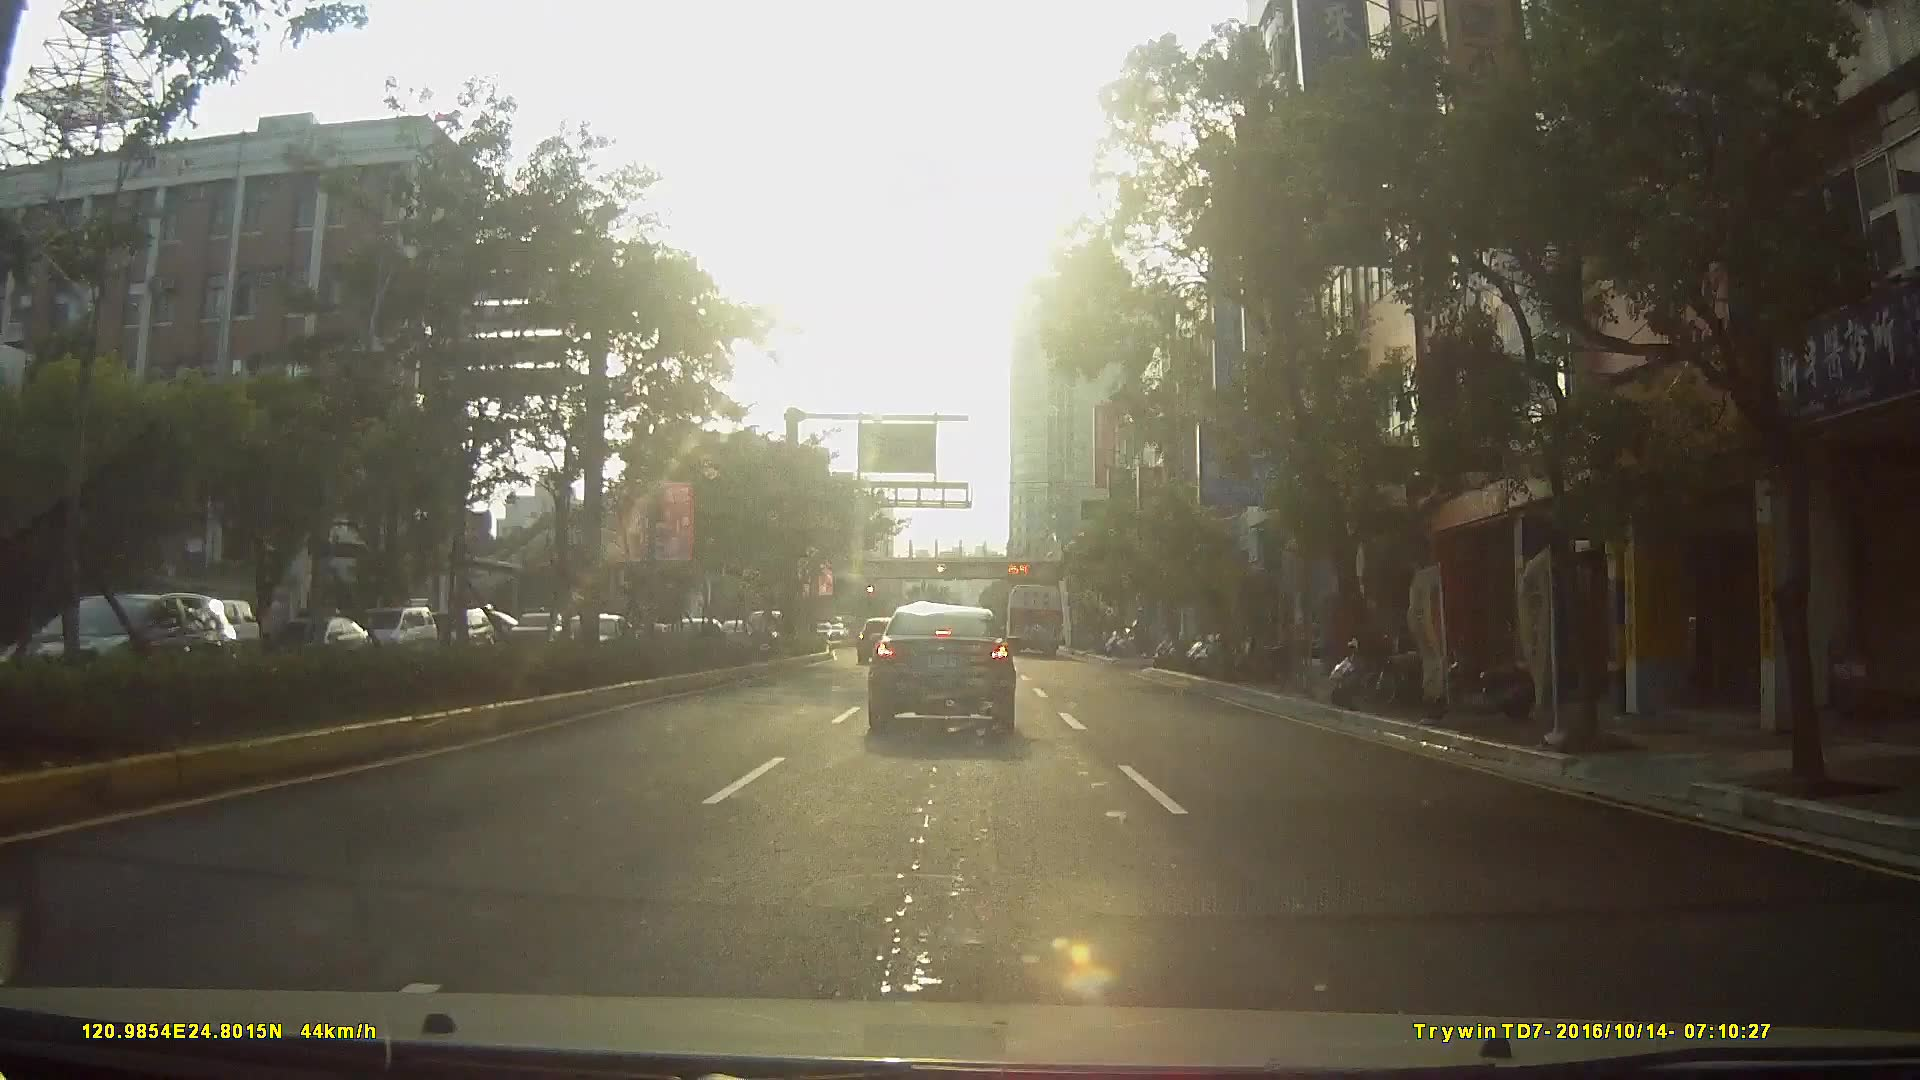vehicle: (1, 592, 241, 715), (862, 603, 1015, 735), (145, 597, 252, 670), (1004, 579, 1065, 653), (357, 604, 436, 655), (419, 607, 488, 657), (504, 611, 564, 649), (856, 615, 899, 665)
